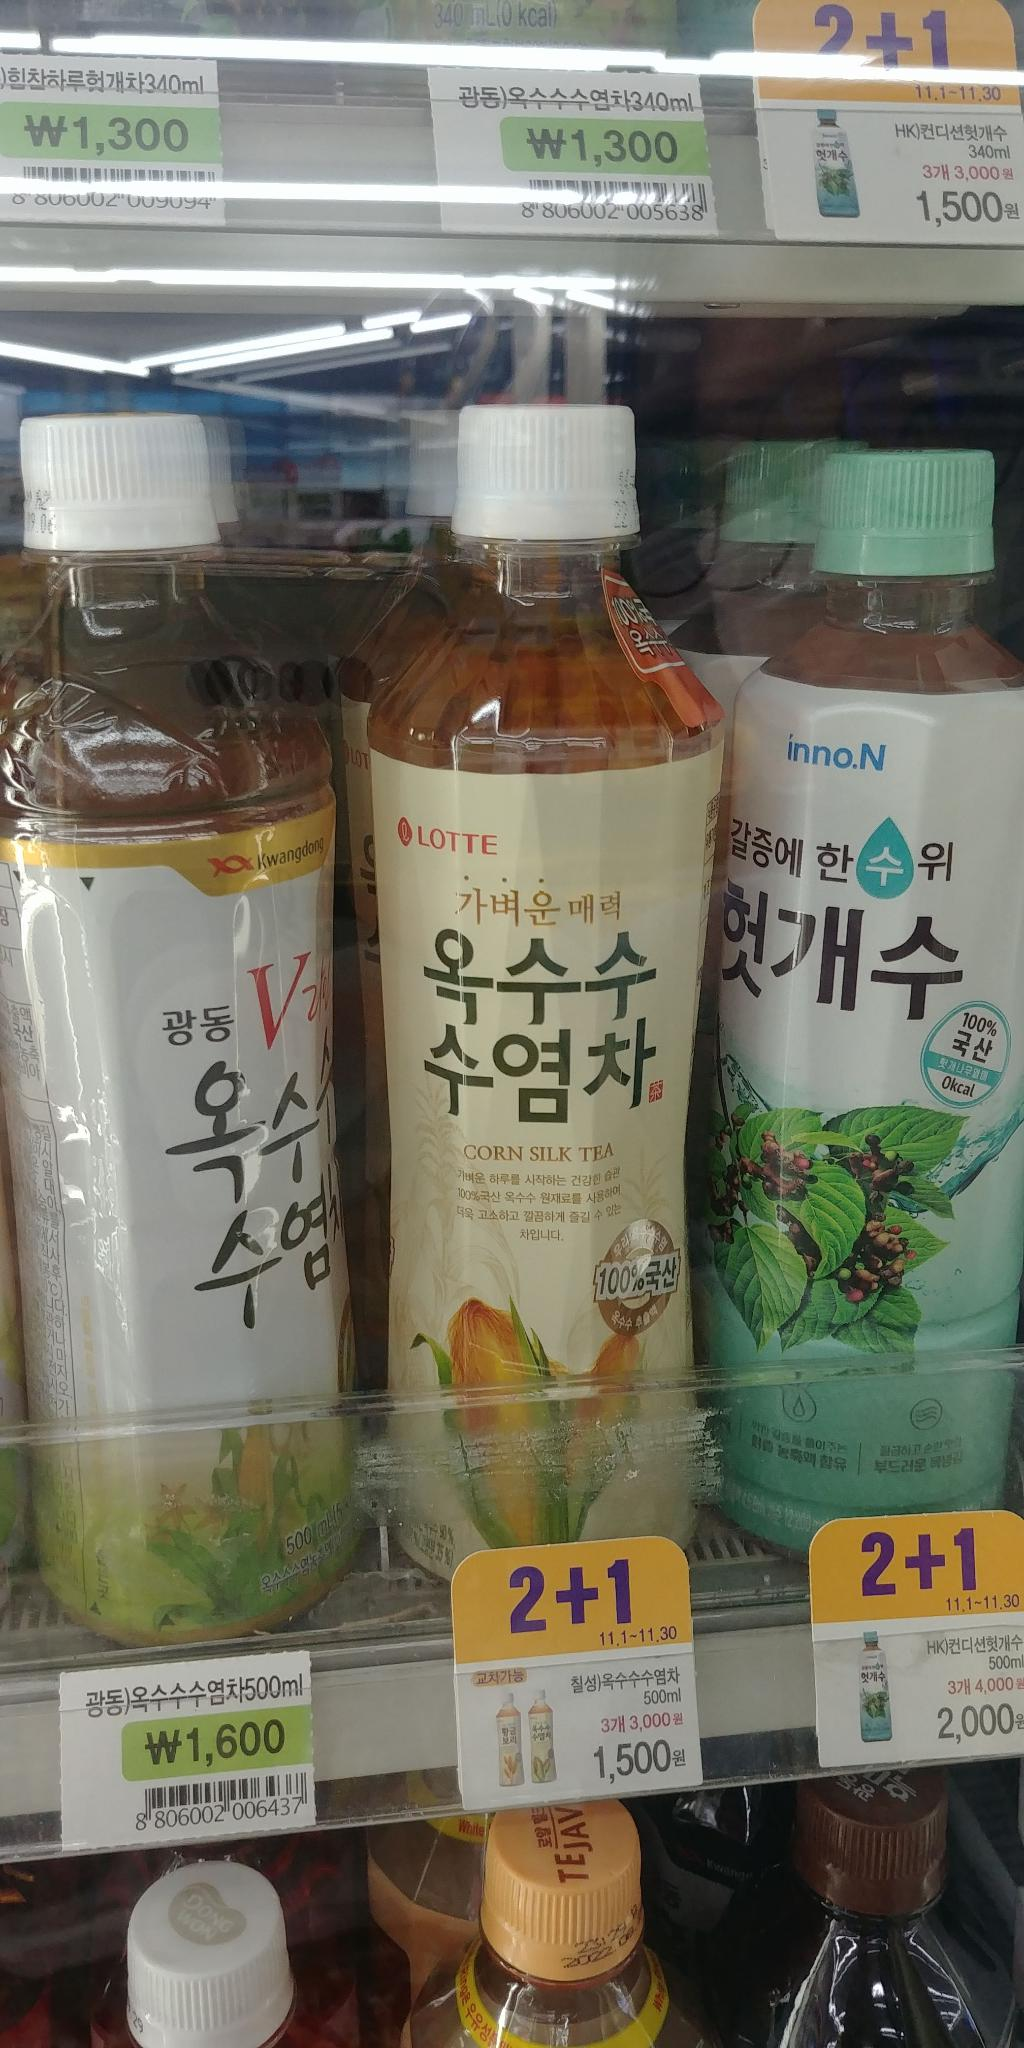oksususuyeomcha: (0, 409, 384, 1654)
